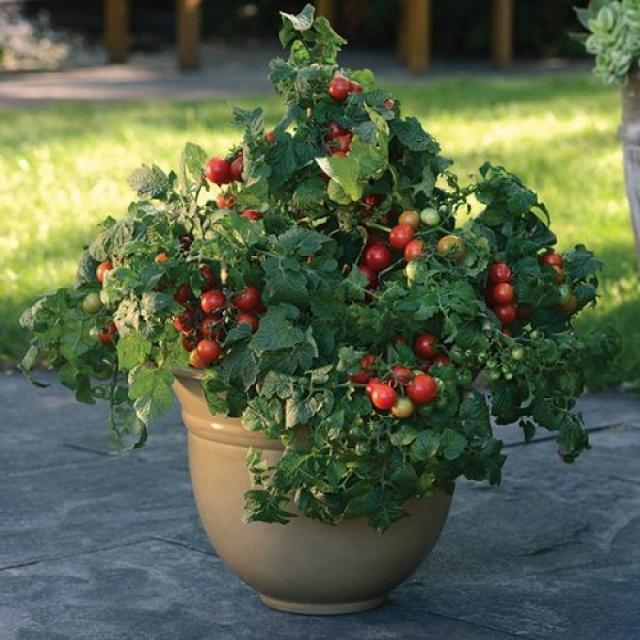tomato: (23, 4, 603, 532)
